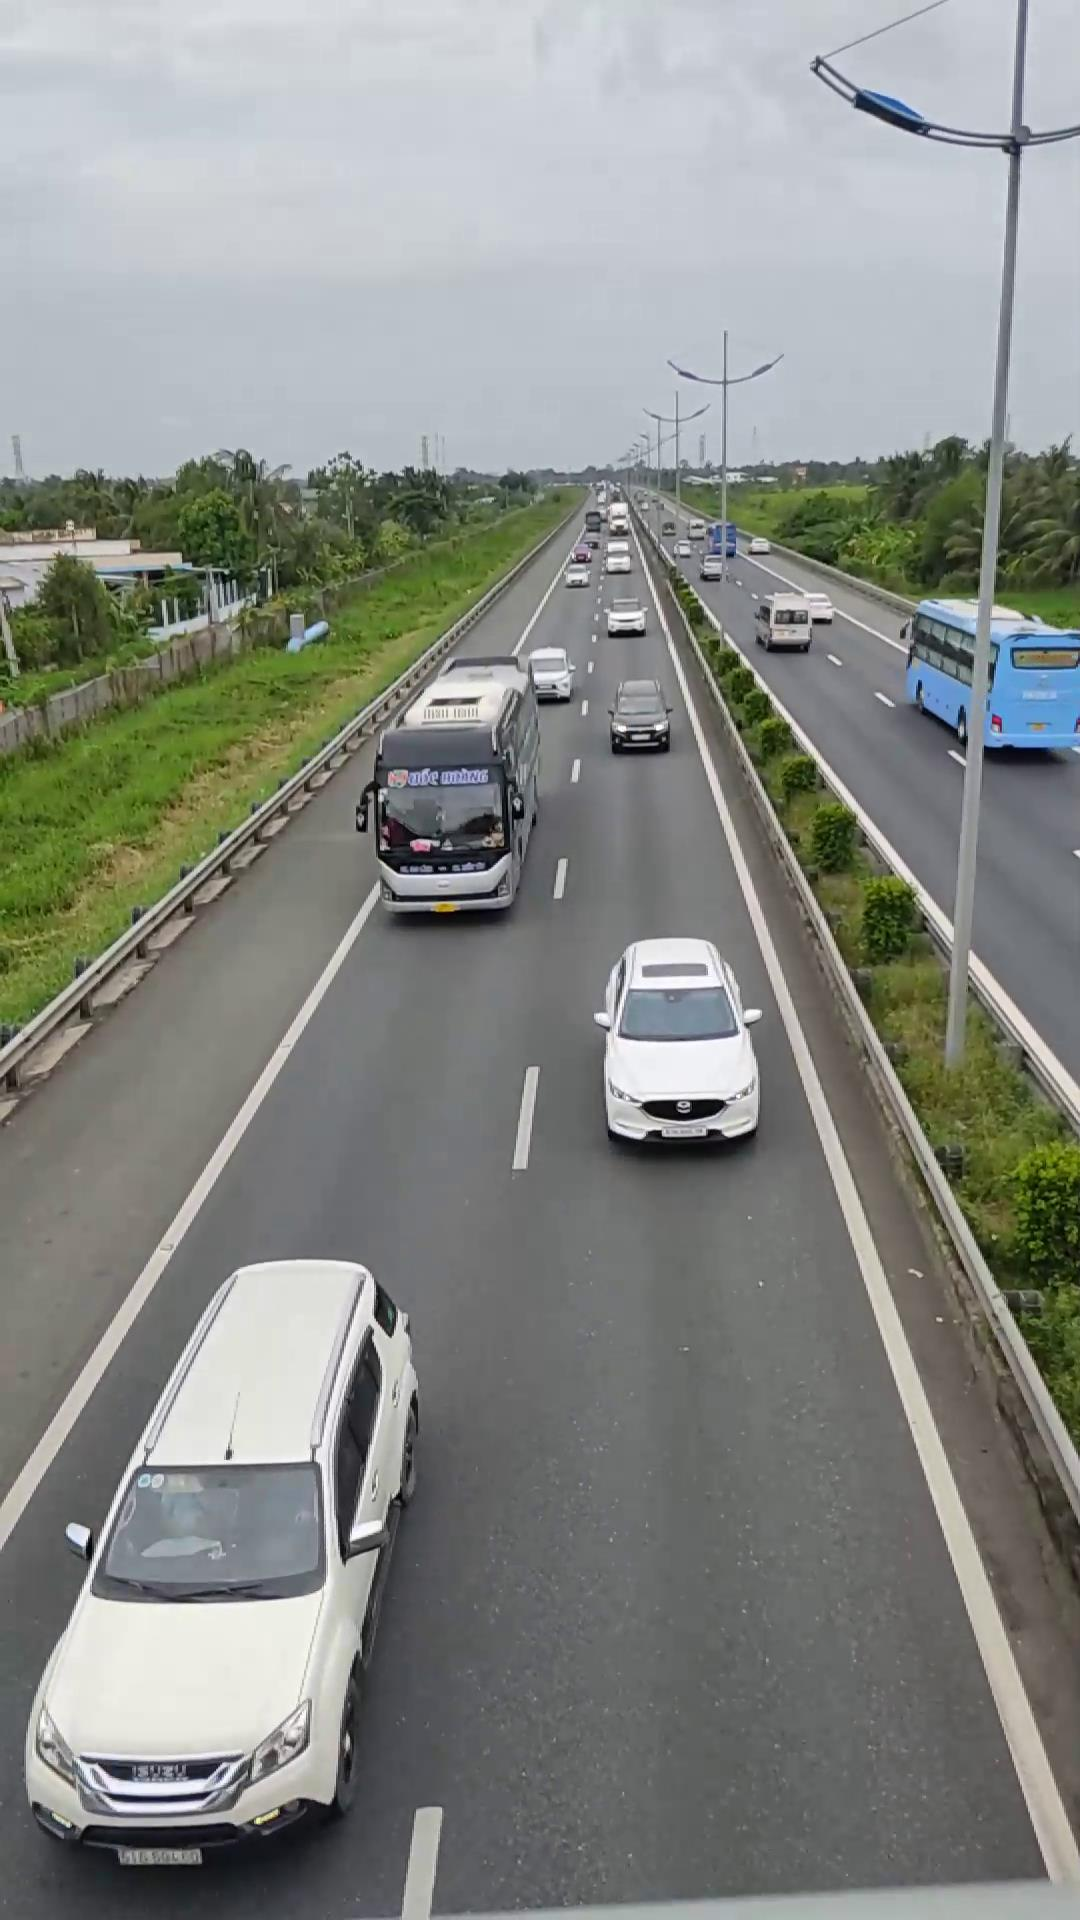bus: (359, 650, 541, 927)
car: (21, 1254, 423, 1859), (592, 935, 766, 1150), (605, 678, 674, 752)
